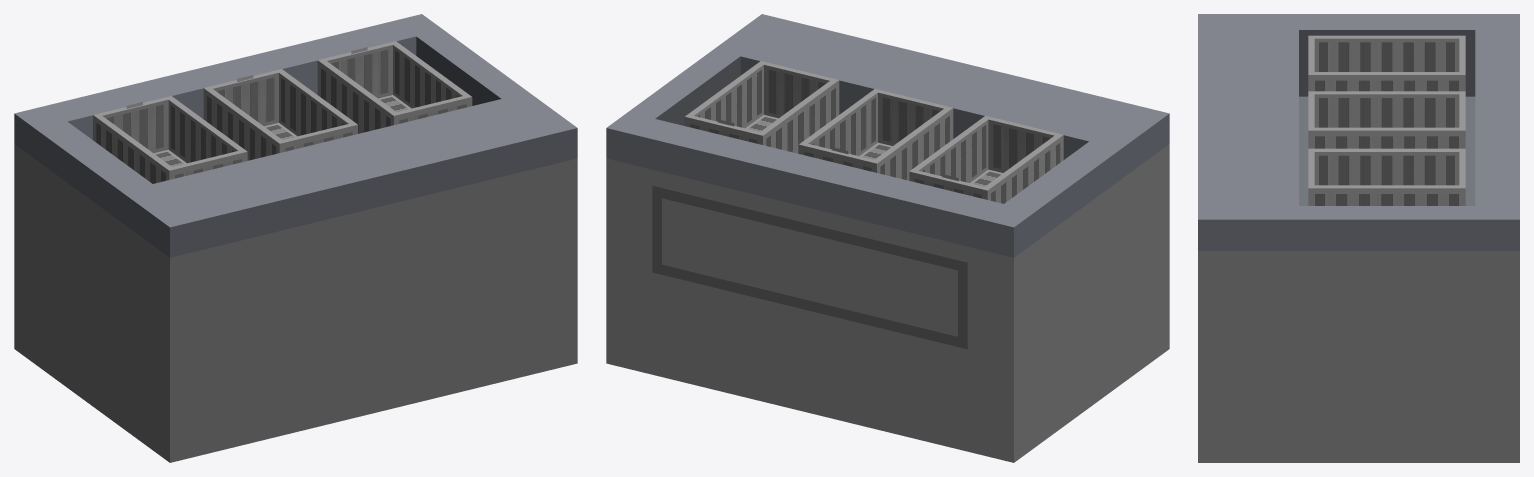
Rendered from Counter 2.glb.
3 renders of one model, left to right at view 1: azimuth 30°, elevation 25°; view 2: azimuth 150°, elevation 25°; view 3: azimuth 270°, elevation 25°, orthographic. The views are drawn at different scales.
Visible parts, largest first — view 1: SI_Prop_Fryer; view 2: SI_Prop_Fryer; view 3: SI_Prop_Fryer.
Boxes of the visible parts, x1=… form: SI_Prop_Fryer: x1=14, y1=14, x2=577, y2=462; SI_Prop_Fryer: x1=606, y1=14, x2=1169, y2=462; SI_Prop_Fryer: x1=1198, y1=14, x2=1519, y2=462.
Size of the model in its own units: 0.0221 by 0.0126 by 0.0146.
1 material, 1 textured.
